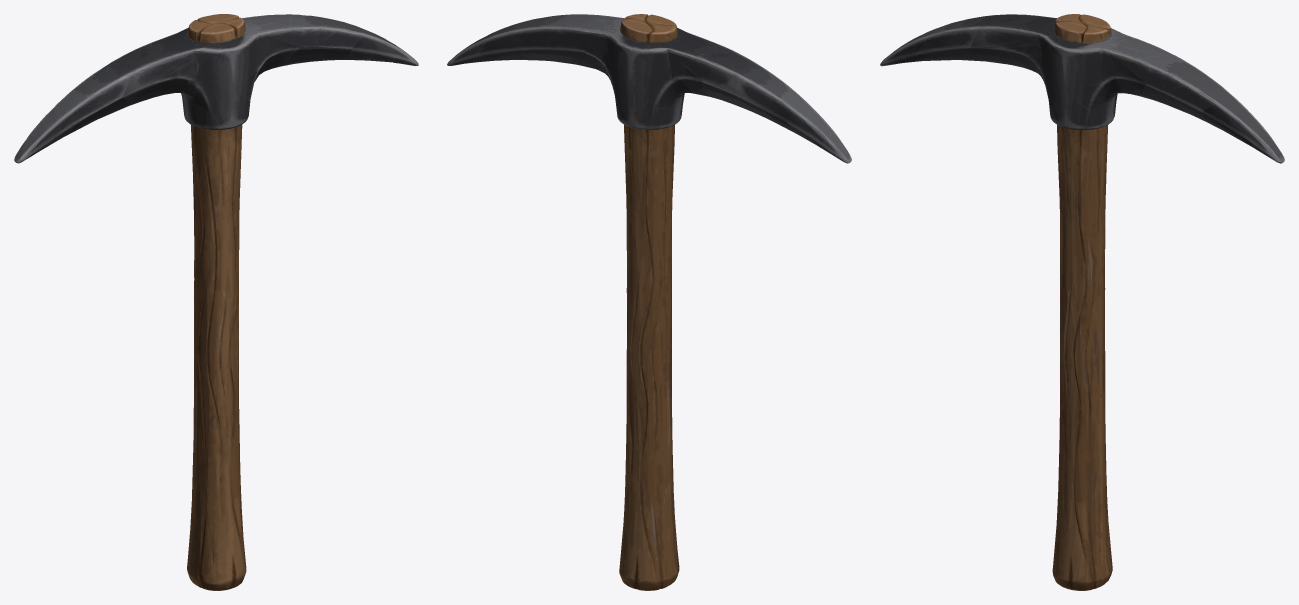
The model's file is pickaxe.glb.
3 renders of one model, left to right at view 1: azimuth 30°, elevation 25°; view 2: azimuth 150°, elevation 25°; view 3: azimuth 330°, elevation 25°, orthographic.
Size of the model in its own units: 1.43 by 1.9 by 0.2128.
Materials: 1 (1 with a texture image).
